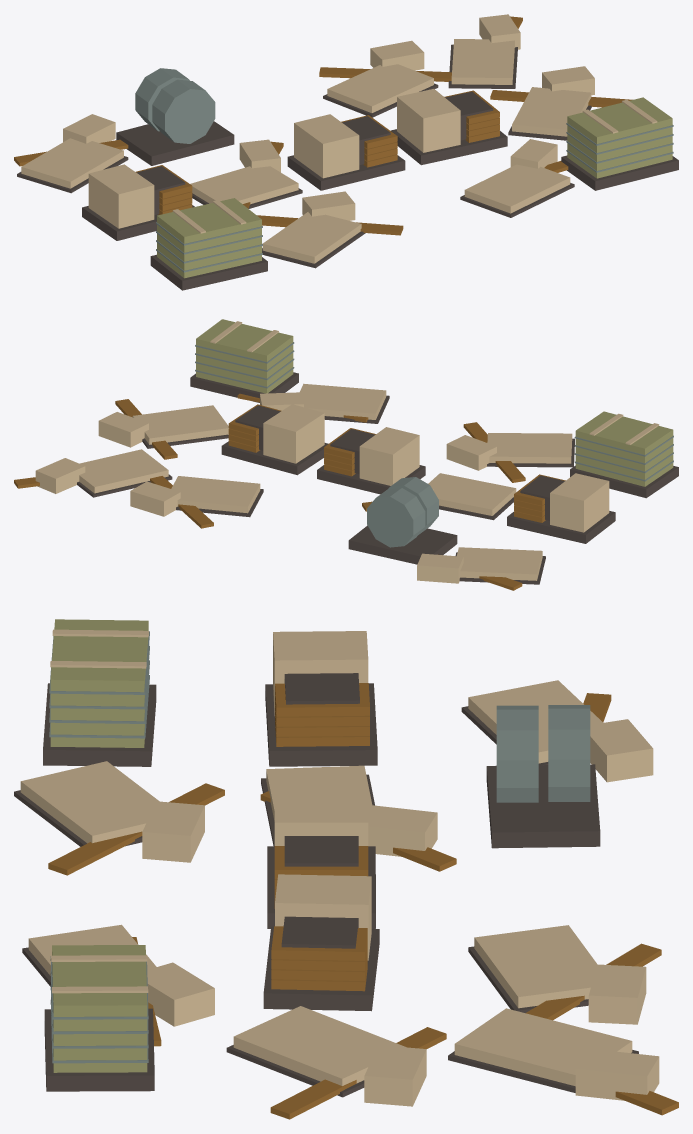
File: SM_AcopioMateriales_v3_Saqueado_LOD0.fbx
The picture shows the model from 3 angles, top to bottom: view 1: azimuth 30°, elevation 25°; view 2: azimuth 150°, elevation 25°; view 3: azimuth 270°, elevation 25°; orthographic projection. The views are drawn at different scales.
Parts seen in each view (by area): view 1: SM_acopio_carga_v13_LOD0; view 2: SM_acopio_carga_v13_LOD0; view 3: SM_acopio_carga_v13_LOD0.
Boxes of the visible parts, x1,y1,x2,y2 form: SM_acopio_carga_v13_LOD0: [14, 14, 678, 290]; SM_acopio_carga_v13_LOD0: [14, 319, 678, 590]; SM_acopio_carga_v13_LOD0: [14, 619, 678, 1119].
Size of the model in its own units: 8.24 by 0.94 by 5.39.
